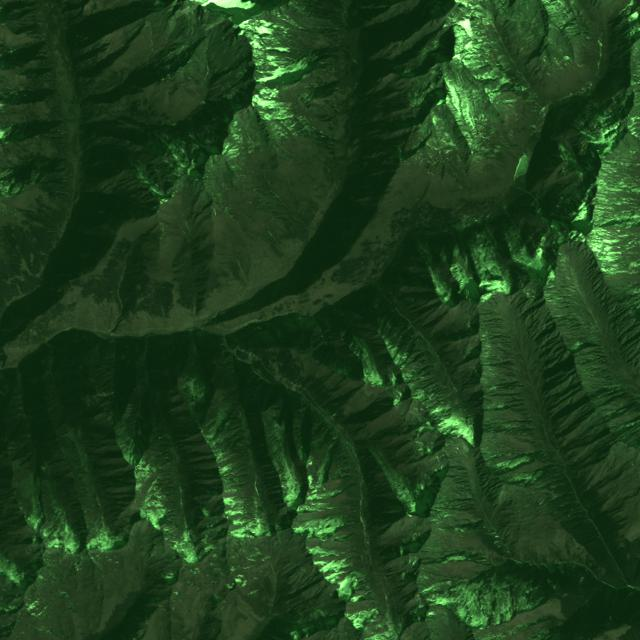landslides: (237, 260, 252, 296), (611, 415, 640, 432), (269, 231, 286, 255), (312, 425, 331, 446), (291, 212, 308, 230), (539, 65, 557, 81), (129, 22, 145, 39), (529, 348, 540, 369), (530, 360, 545, 375), (533, 368, 547, 383), (515, 397, 538, 406), (97, 390, 118, 397), (421, 148, 433, 160), (30, 327, 39, 339), (16, 284, 23, 299)
